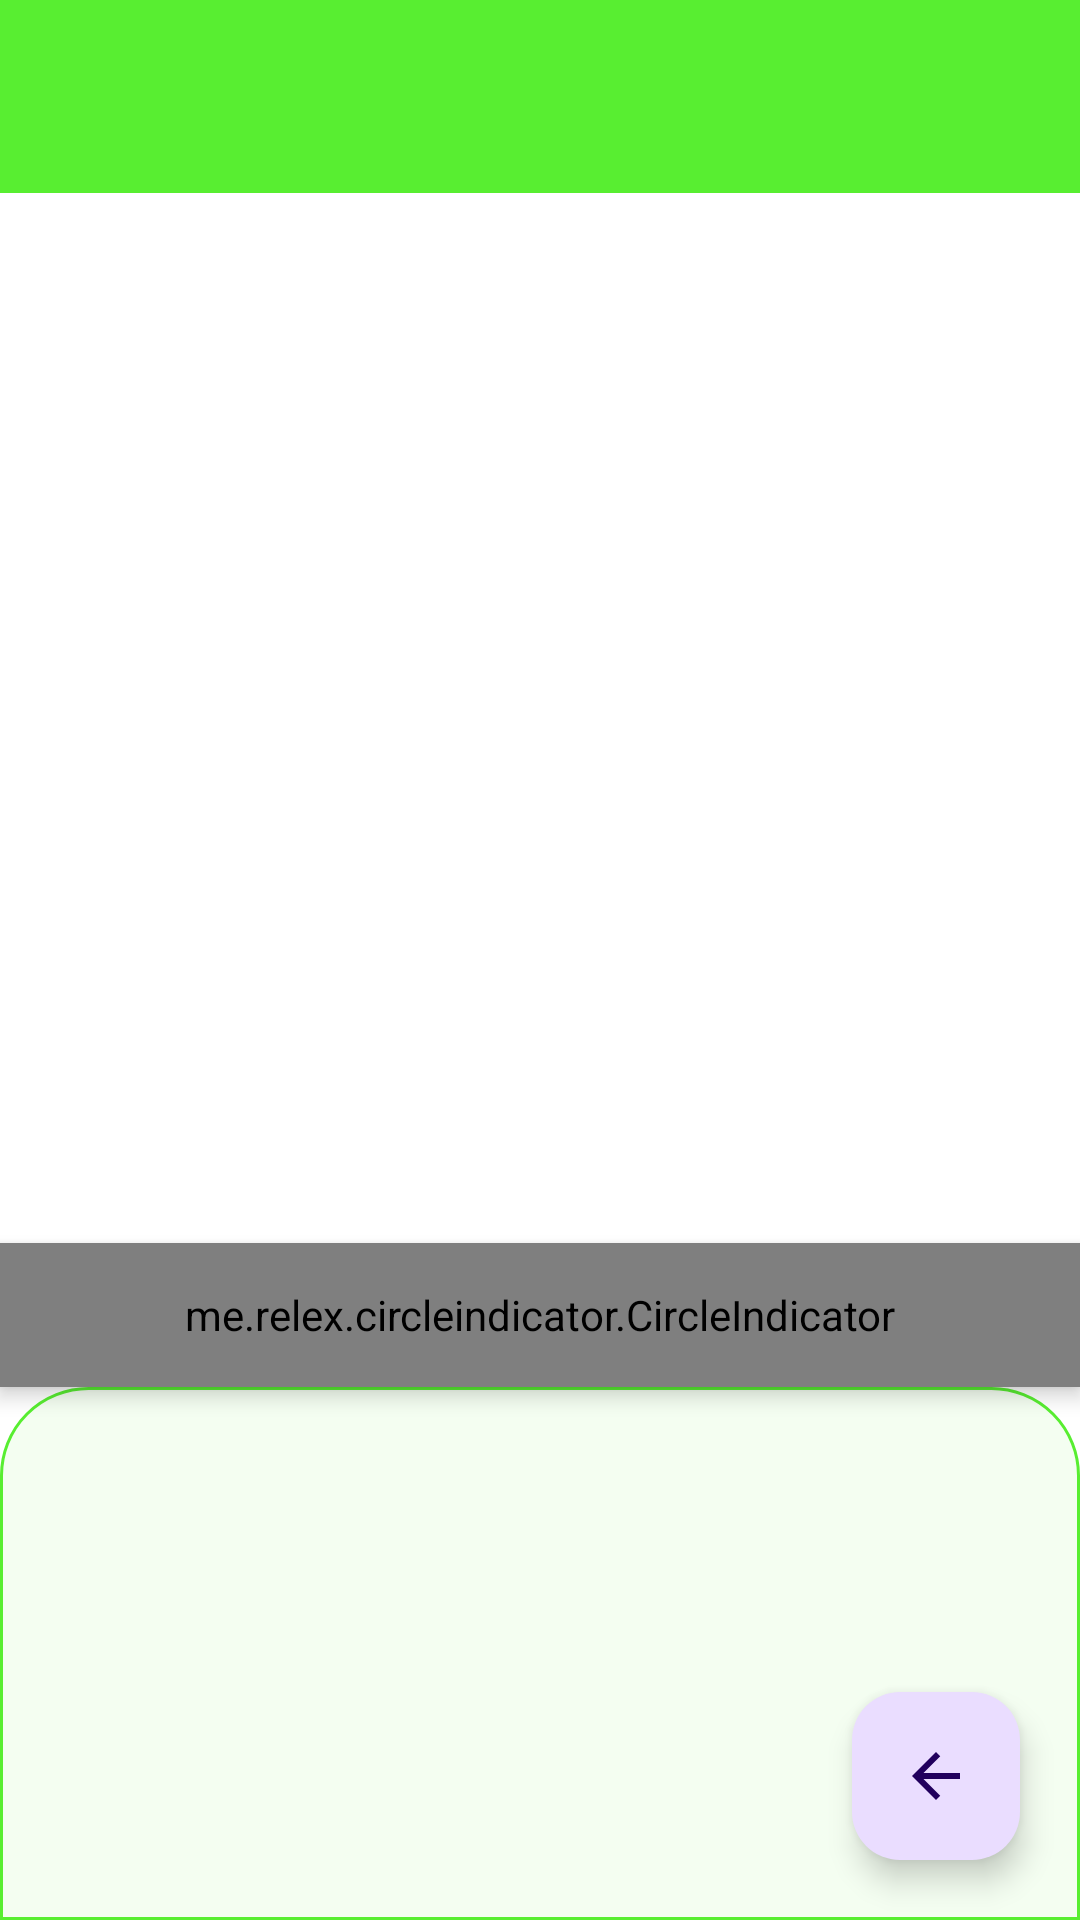

Icon click points for this 1080w x 1920h phone screenshot, format (x,y):
back: (936,1776)
